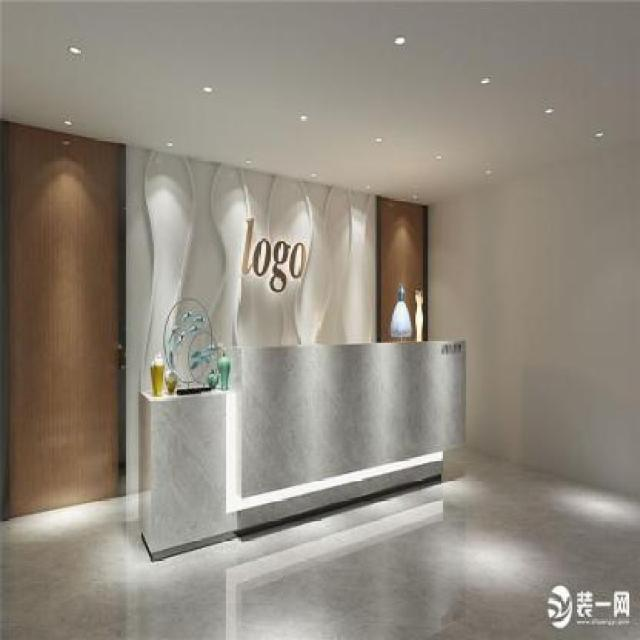frontdesk: (125, 329, 476, 569)
